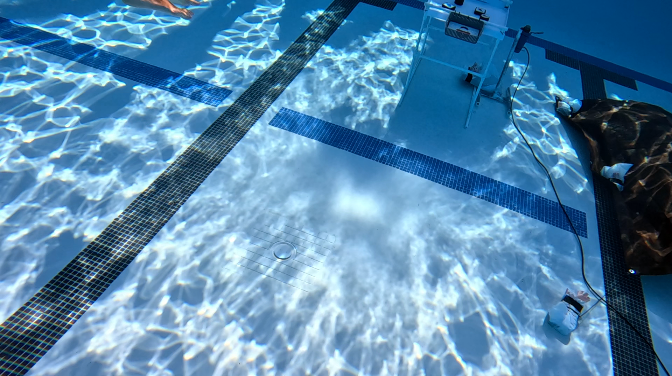sandbag: (554, 100, 671, 273), (545, 287, 588, 333)
